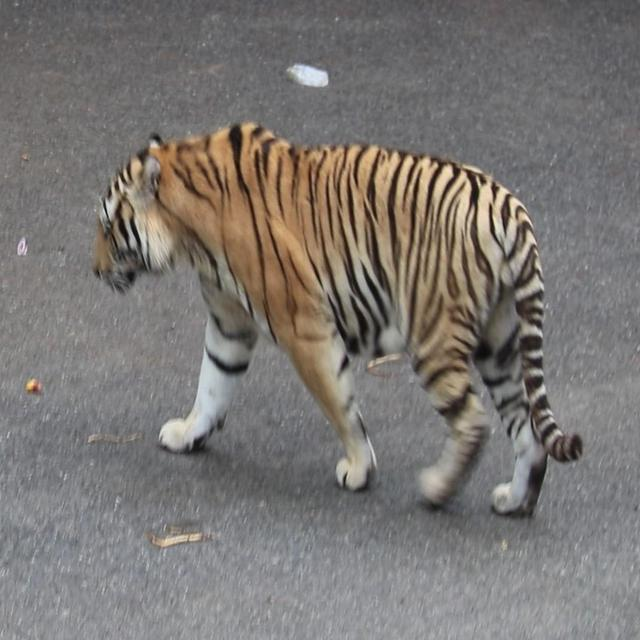tiger: (90, 119, 583, 518)
